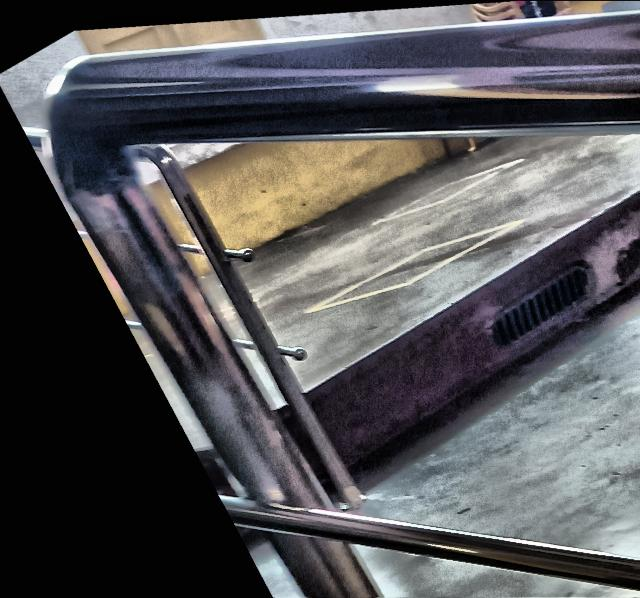obstacle: (0, 1, 640, 598)
